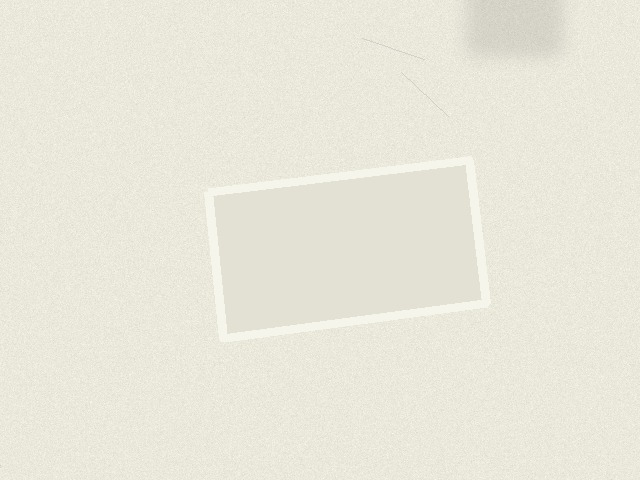parking_area: (208, 160, 486, 338)
